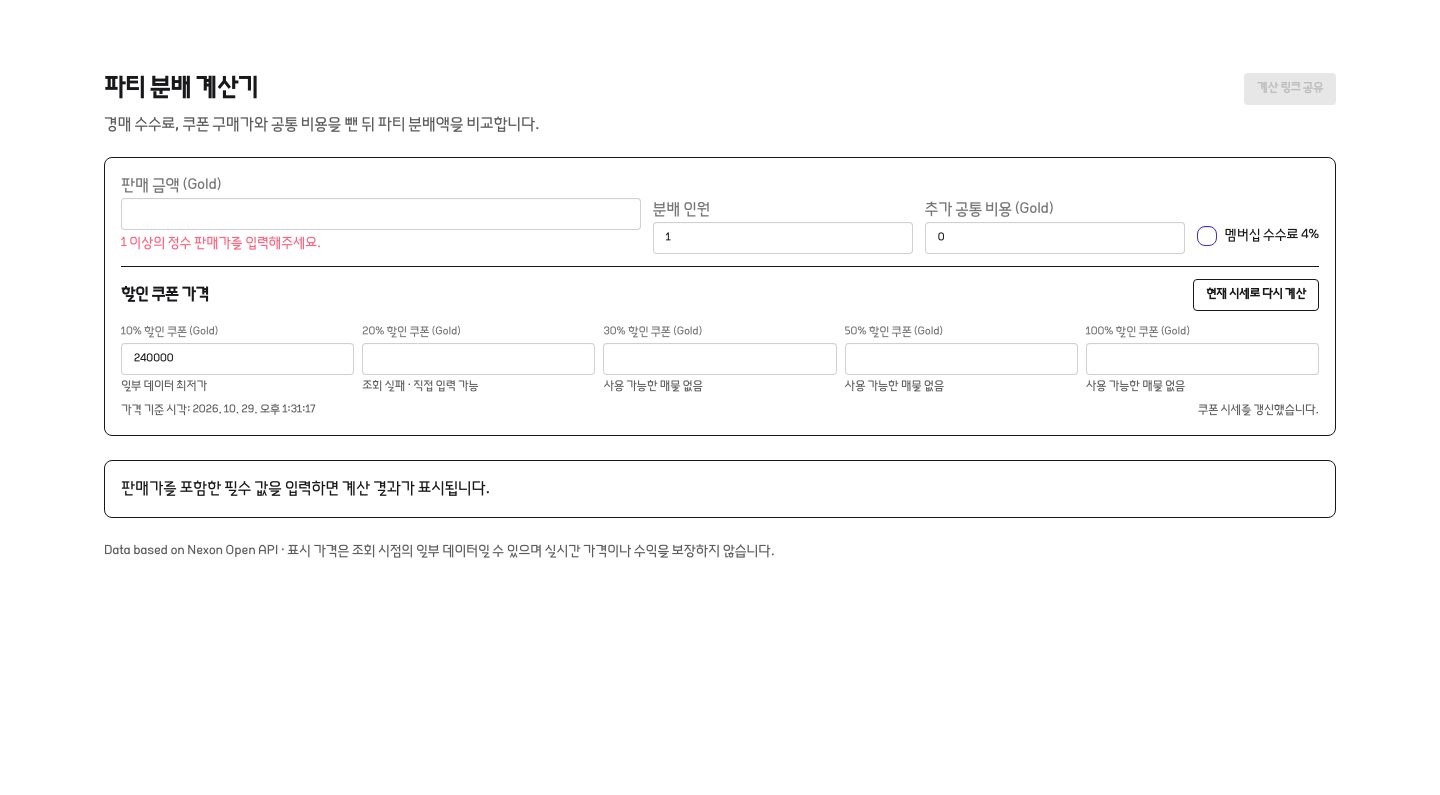
it: auction calculator page › keeps incomplete and failed lookups manual while distinguishing zero
Type "100000000" into the number field labelled "판매 금액 (Gold)" at (381, 214), box [121,198,641,230]
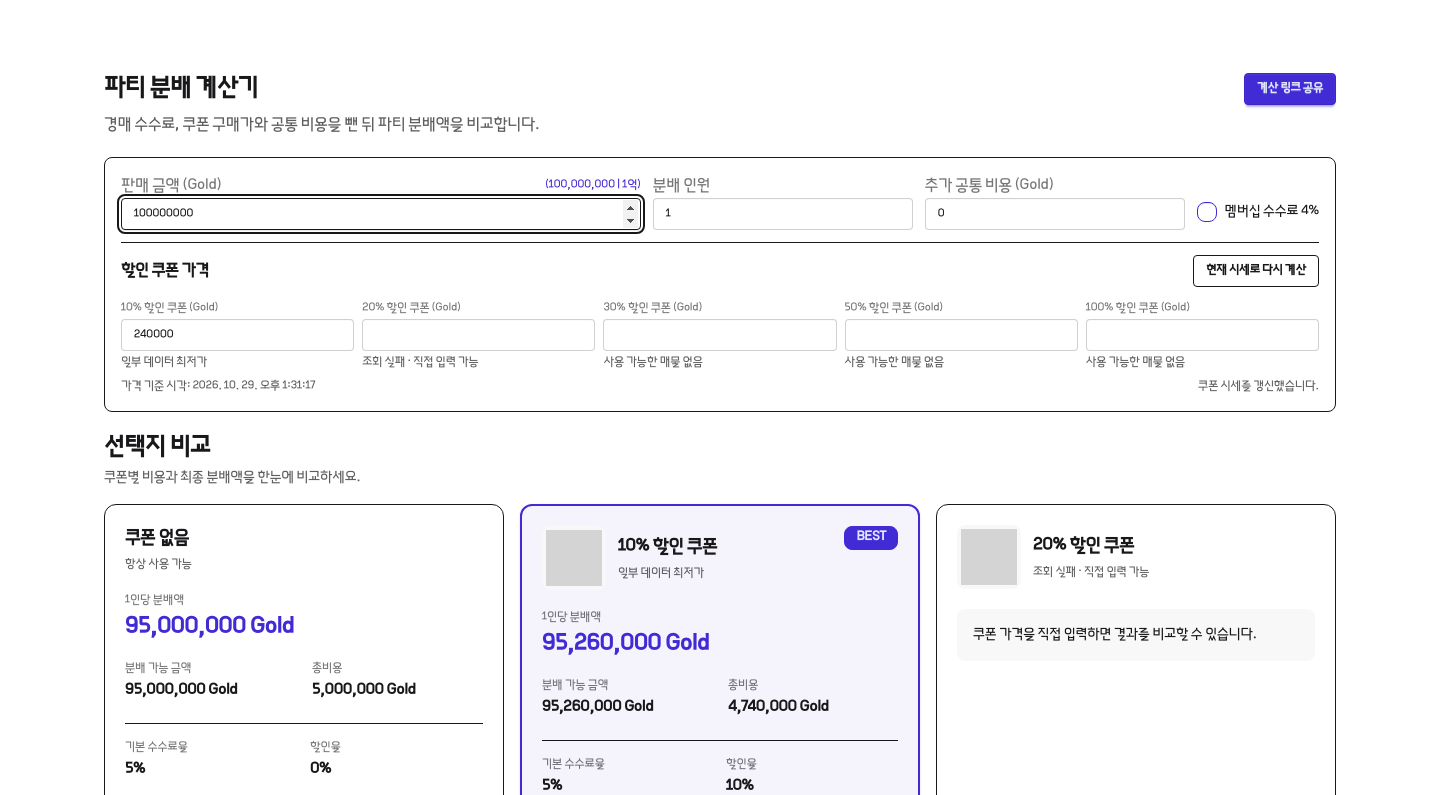
Expected: the text "일부 데이터 최저가" is shown 2 times, [121,356,207,369]; [618,566,717,582]
Expected: the text "조회 실패 · 직접 입력 가능" is shown 2 times, [362,356,479,369]; [1033,565,1150,581]
Type "0" into the number field labelled "100% 할인 쿠폰 (Gold)" at (1202, 335), box [1086,319,1319,351]
(page scrolled)
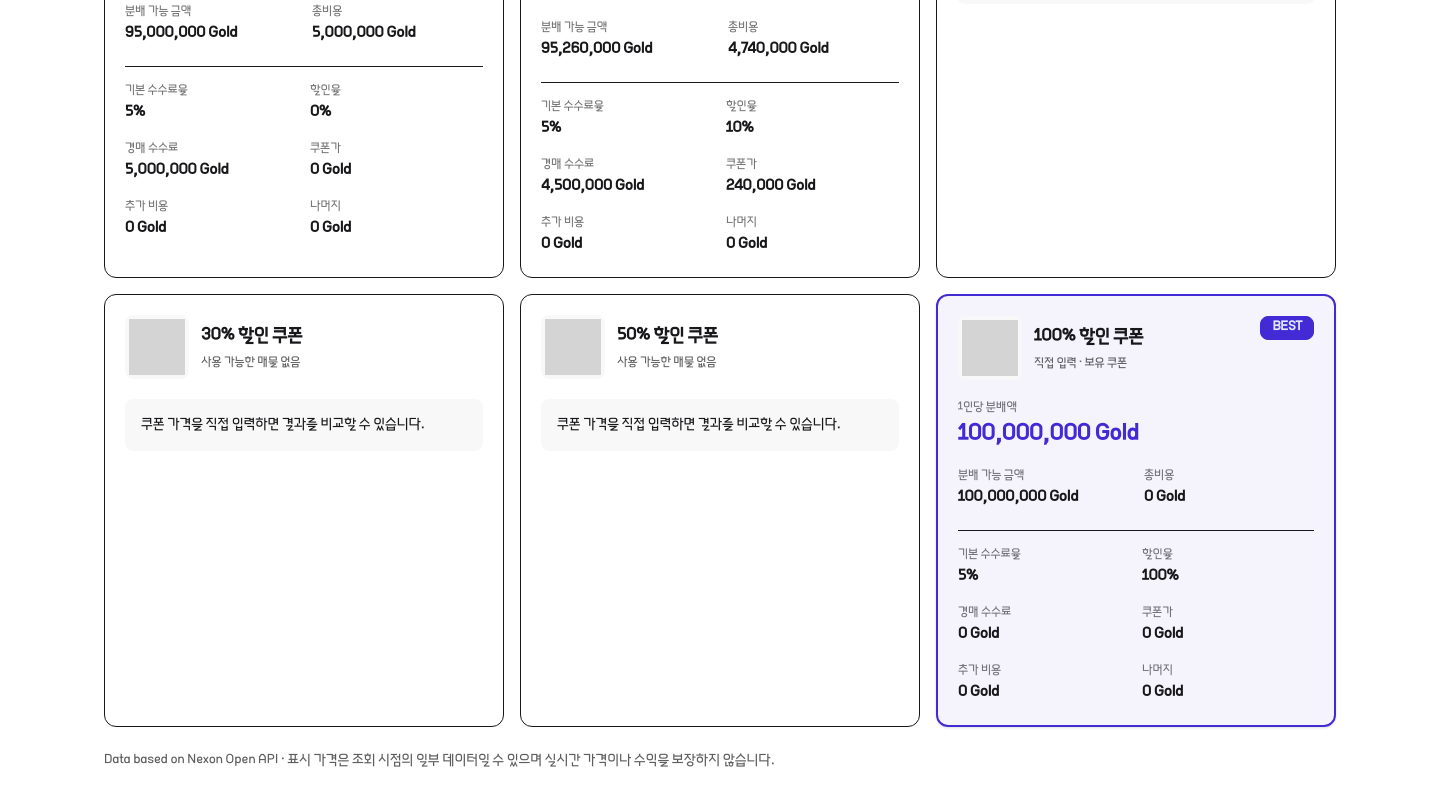
Now the element named "100% 할인 쿠폰 · BEST" is shown, box [936,294,1336,727]
